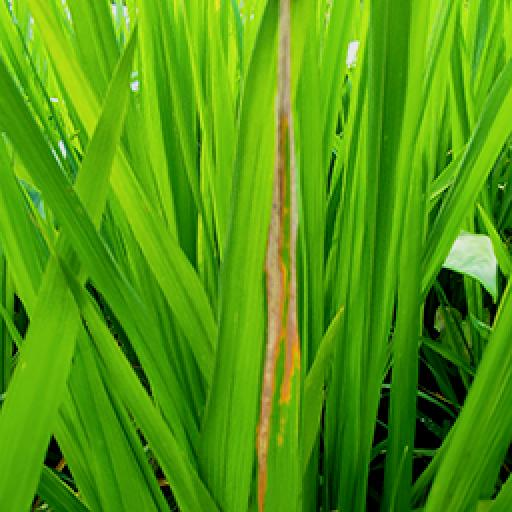Sheath Blight: (240, 10, 300, 508)
